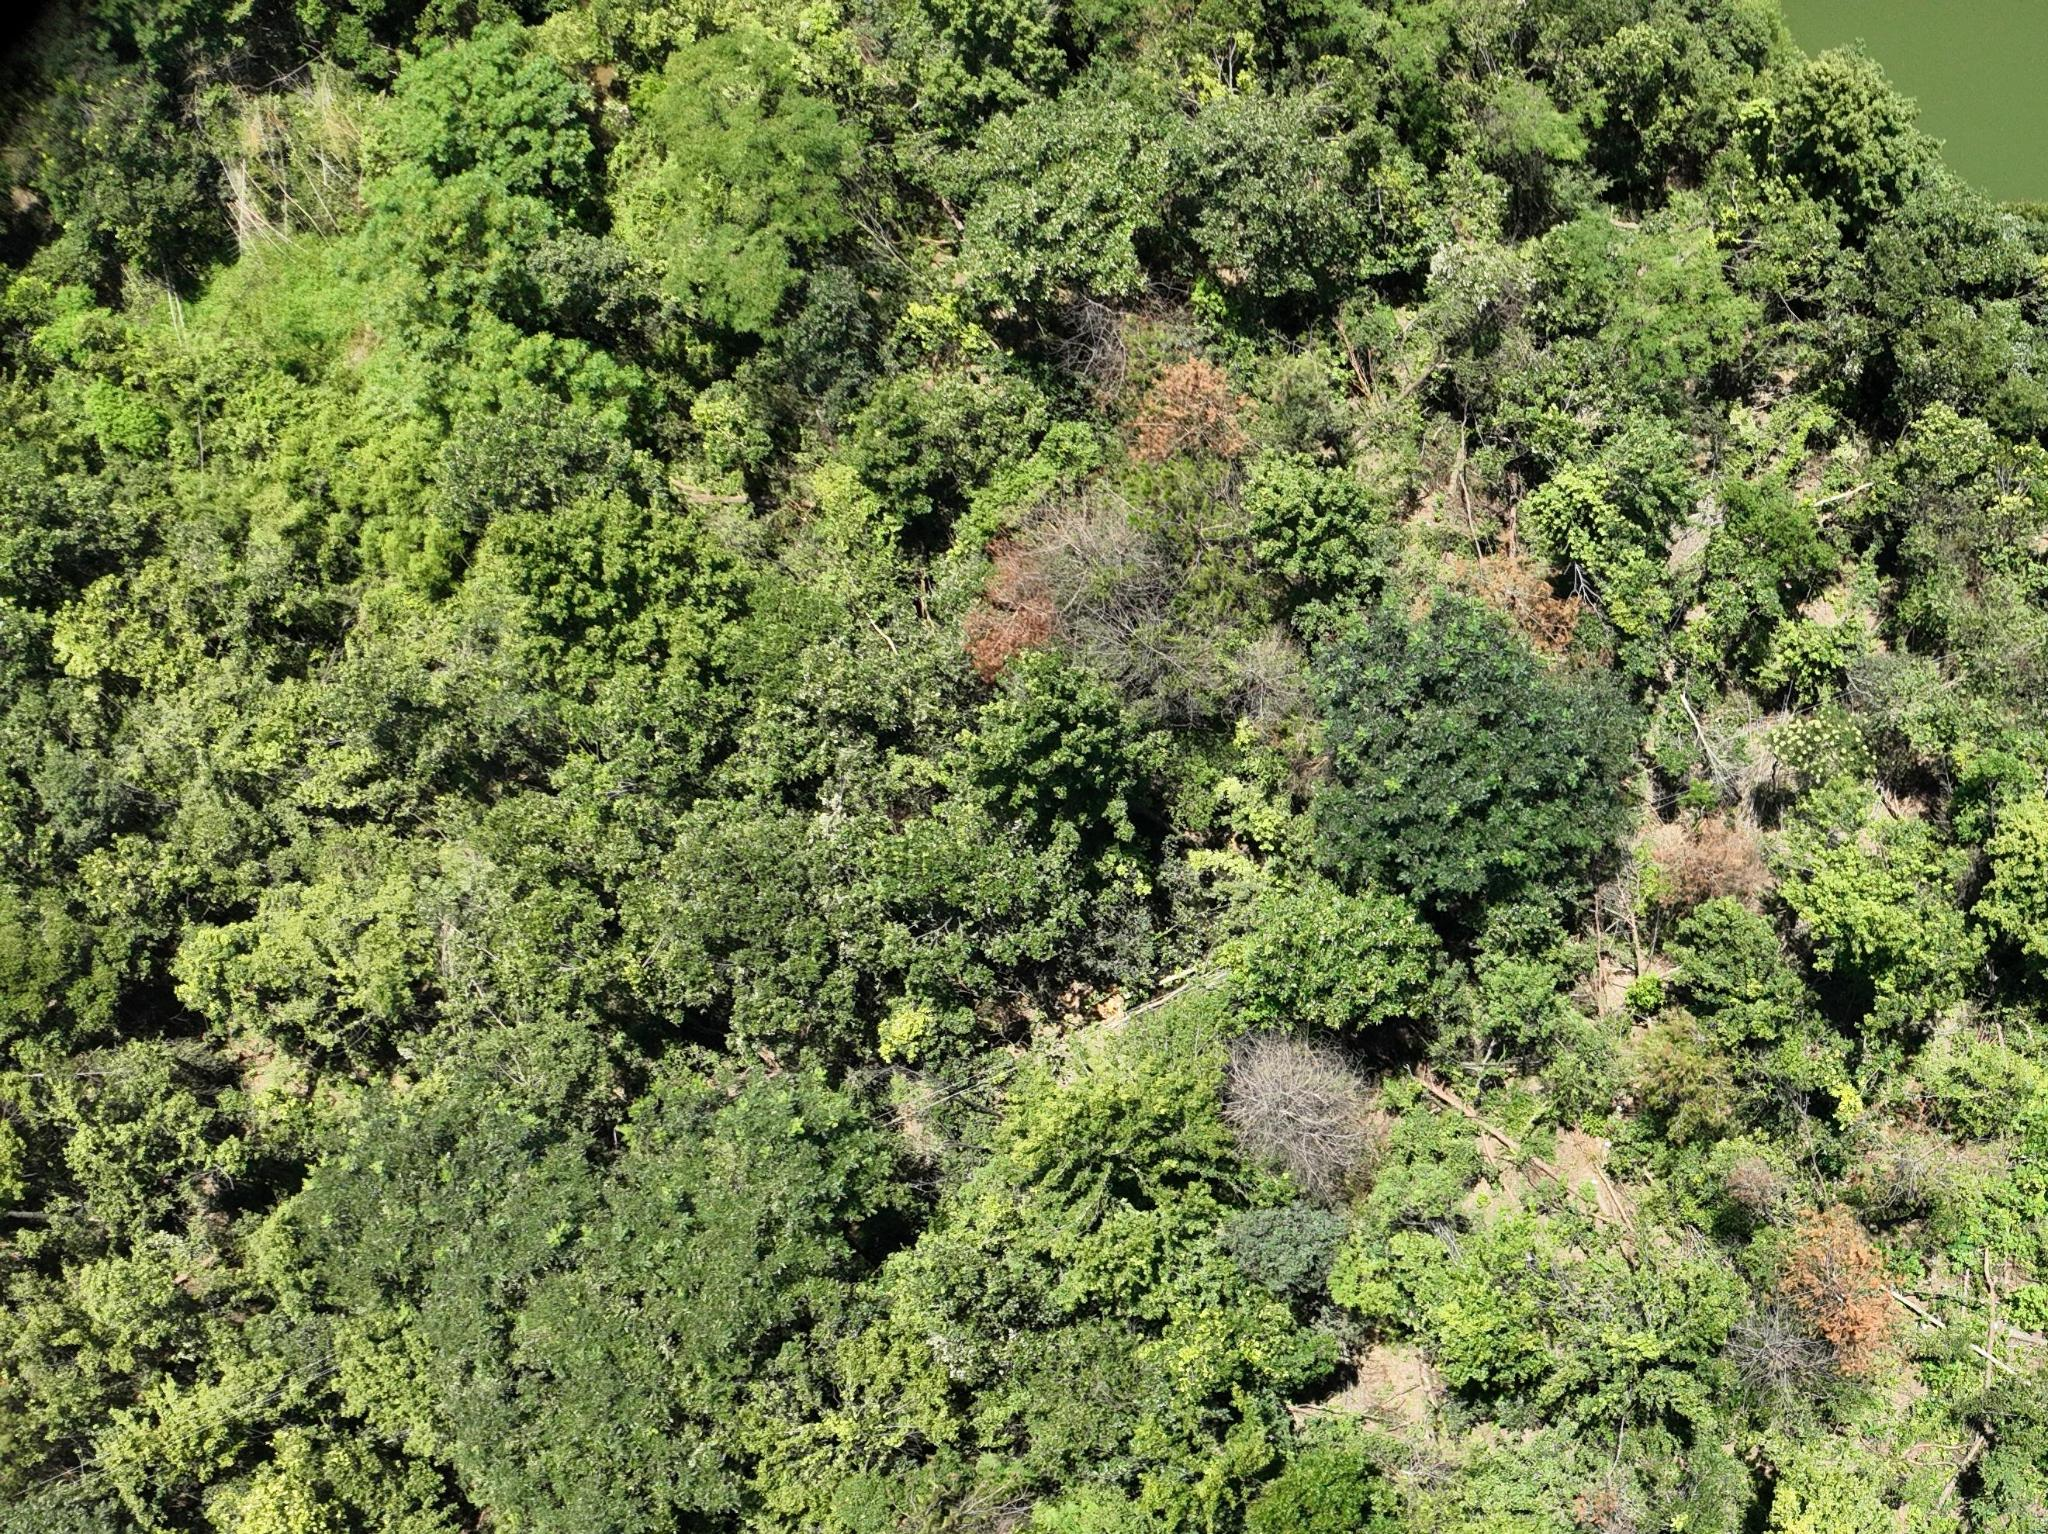dead: (1225, 1044, 1383, 1194), (1653, 817, 1763, 904)
heavy: (1779, 1205, 1905, 1378), (1444, 535, 1581, 656), (1133, 366, 1246, 458), (962, 551, 1043, 674)
